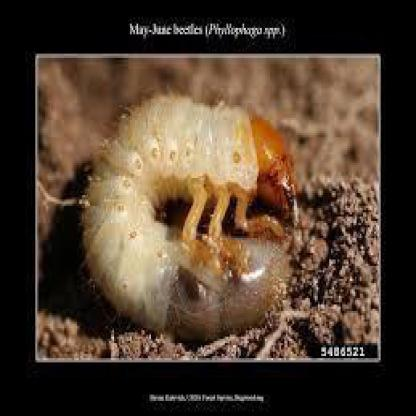root grubs: (85, 92, 299, 342)
